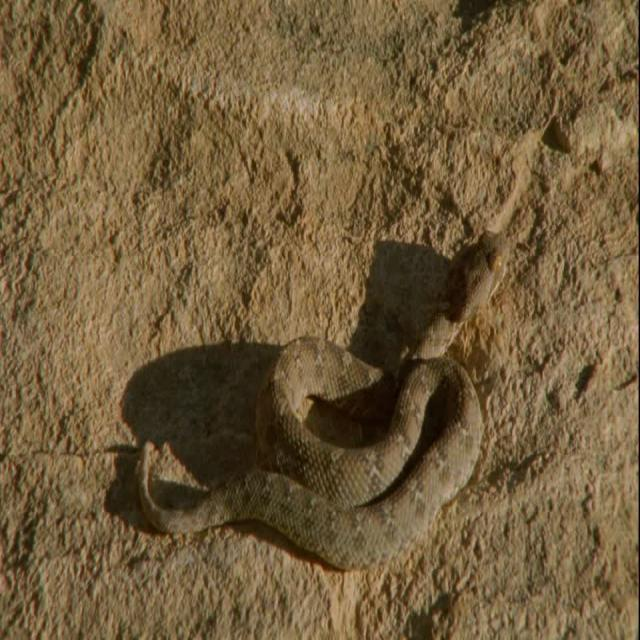Snake: (133, 128, 539, 572)
